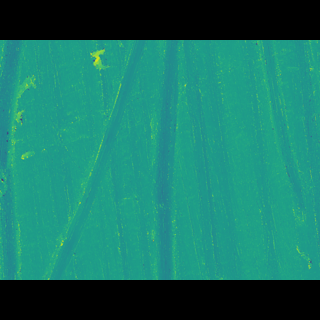Loch: (40, 70, 149, 250), (256, 69, 310, 209), (152, 70, 182, 250), (0, 68, 18, 250)
